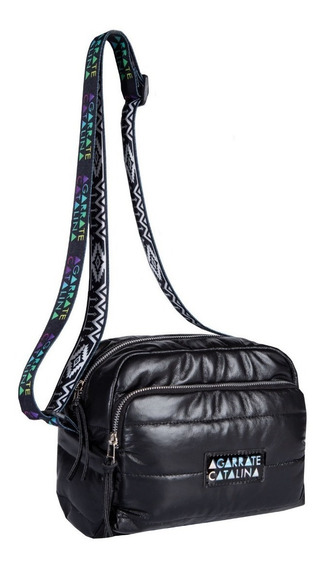cartera: (18, 30, 308, 540)
